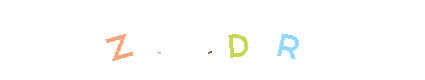1: (172, 0, 252, 80)
9: (131, 0, 211, 80)
D: (197, 0, 277, 80)
R: (248, 0, 328, 80)
Z: (82, 0, 162, 80)
